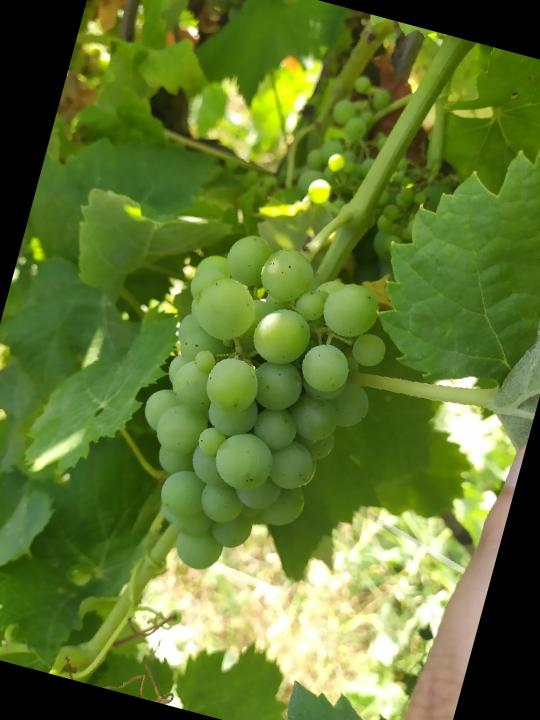grape: (105, 216, 408, 605)
